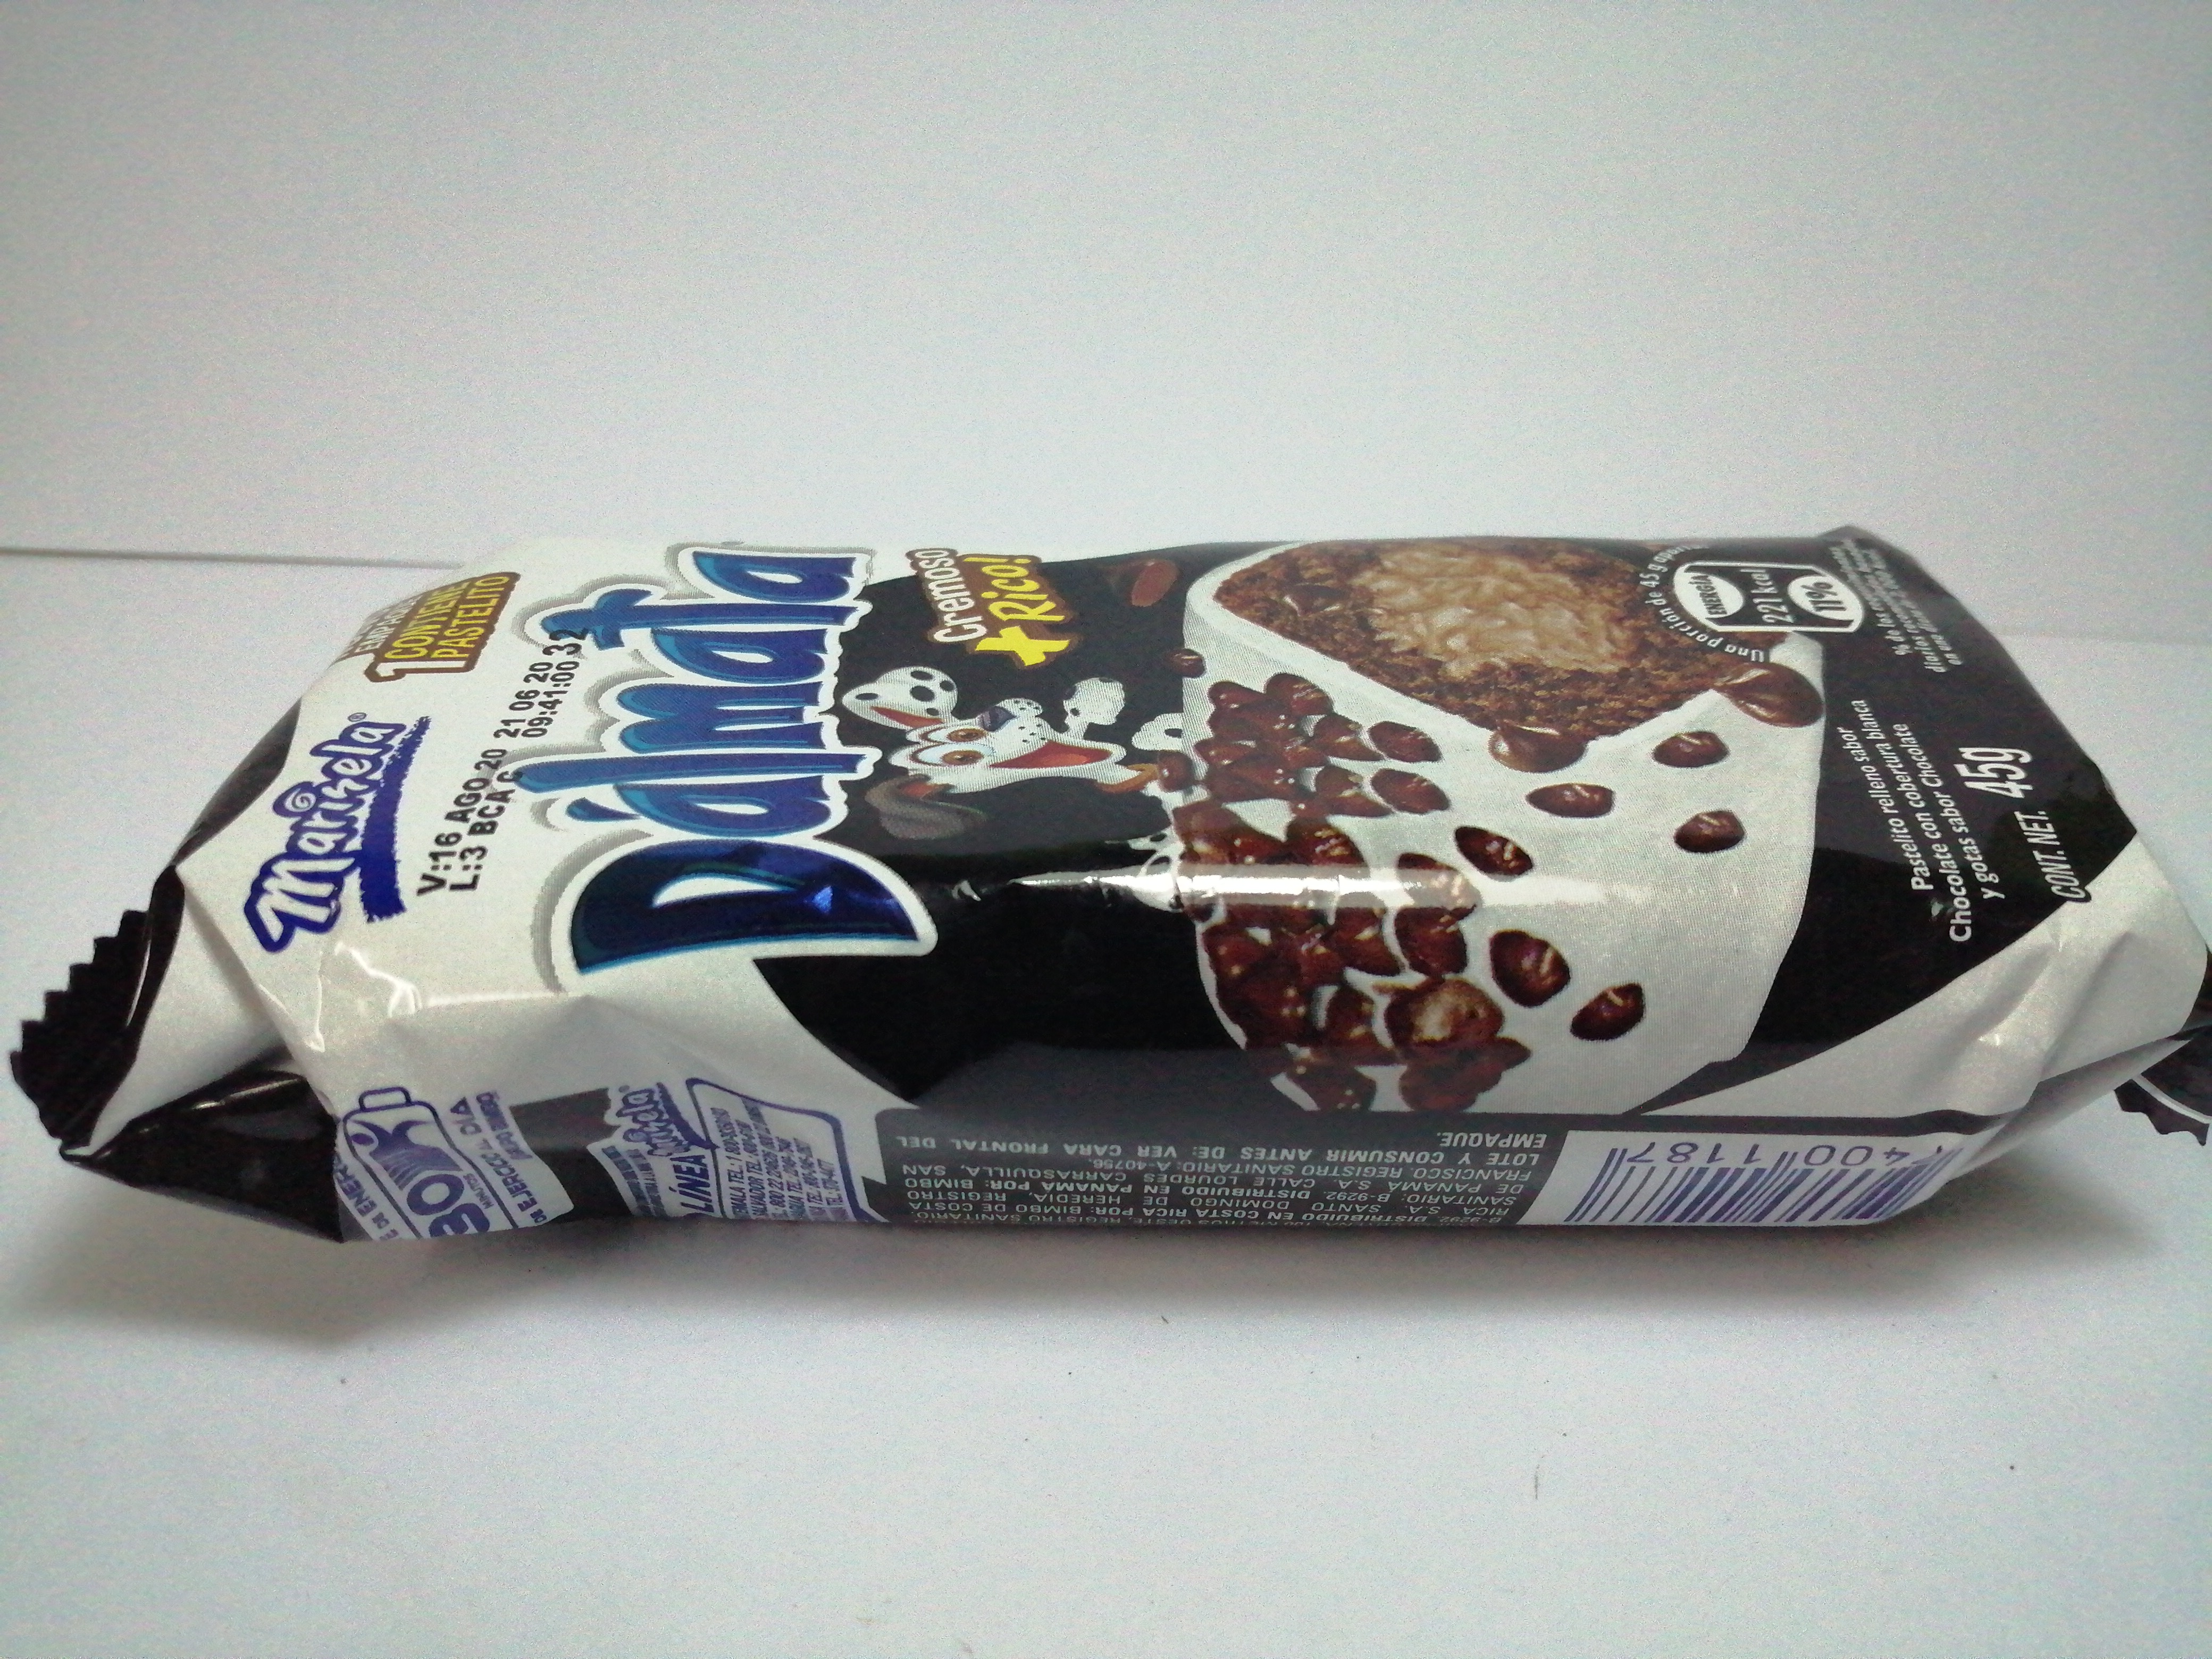dalmata: (2, 493, 2212, 1276)
